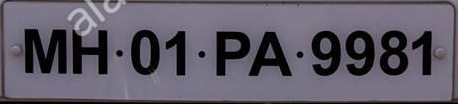character: (245, 30, 293, 77), (21, 26, 67, 74), (70, 26, 108, 76), (215, 29, 251, 78), (309, 28, 342, 79), (129, 27, 161, 77), (379, 28, 410, 78), (344, 29, 375, 78), (410, 29, 434, 77), (164, 29, 186, 77)
